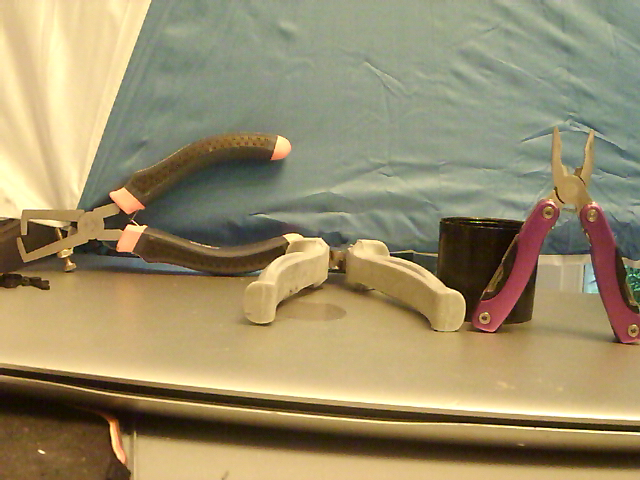pliers: (467, 127, 640, 345), (243, 232, 468, 343)
